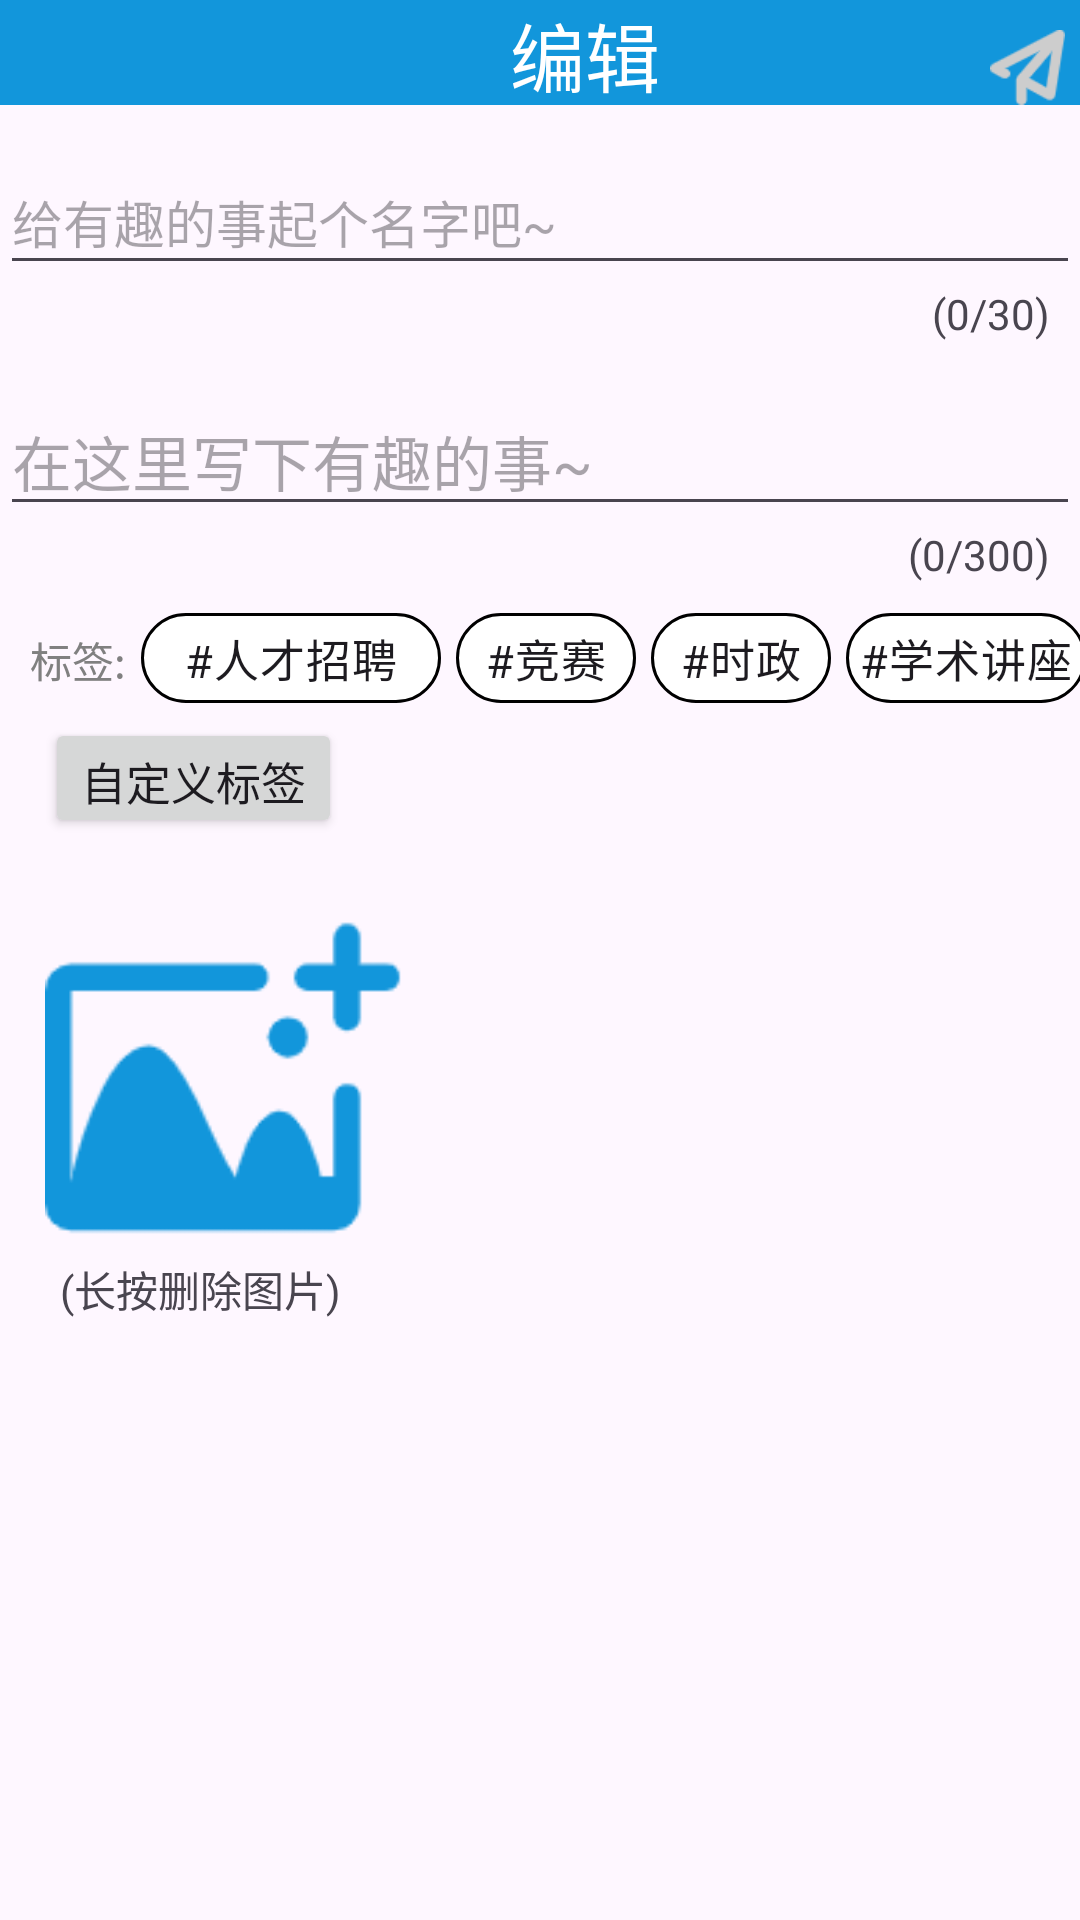

Where icons sit on this 1080*1920 app screen, as (x1, y1, x2, y2):
add picture: (45, 922, 401, 1233)
publish: (990, 30, 1065, 105)
